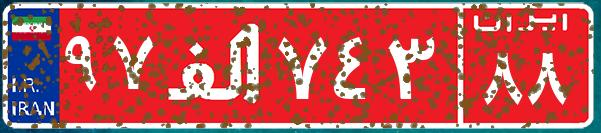3: (385, 28, 445, 110)
4: (330, 28, 385, 110)
7: (273, 28, 330, 110), (110, 28, 158, 105)
8: (475, 38, 525, 113), (525, 38, 570, 115)
9: (57, 26, 110, 107)
الف: (158, 15, 273, 115)
